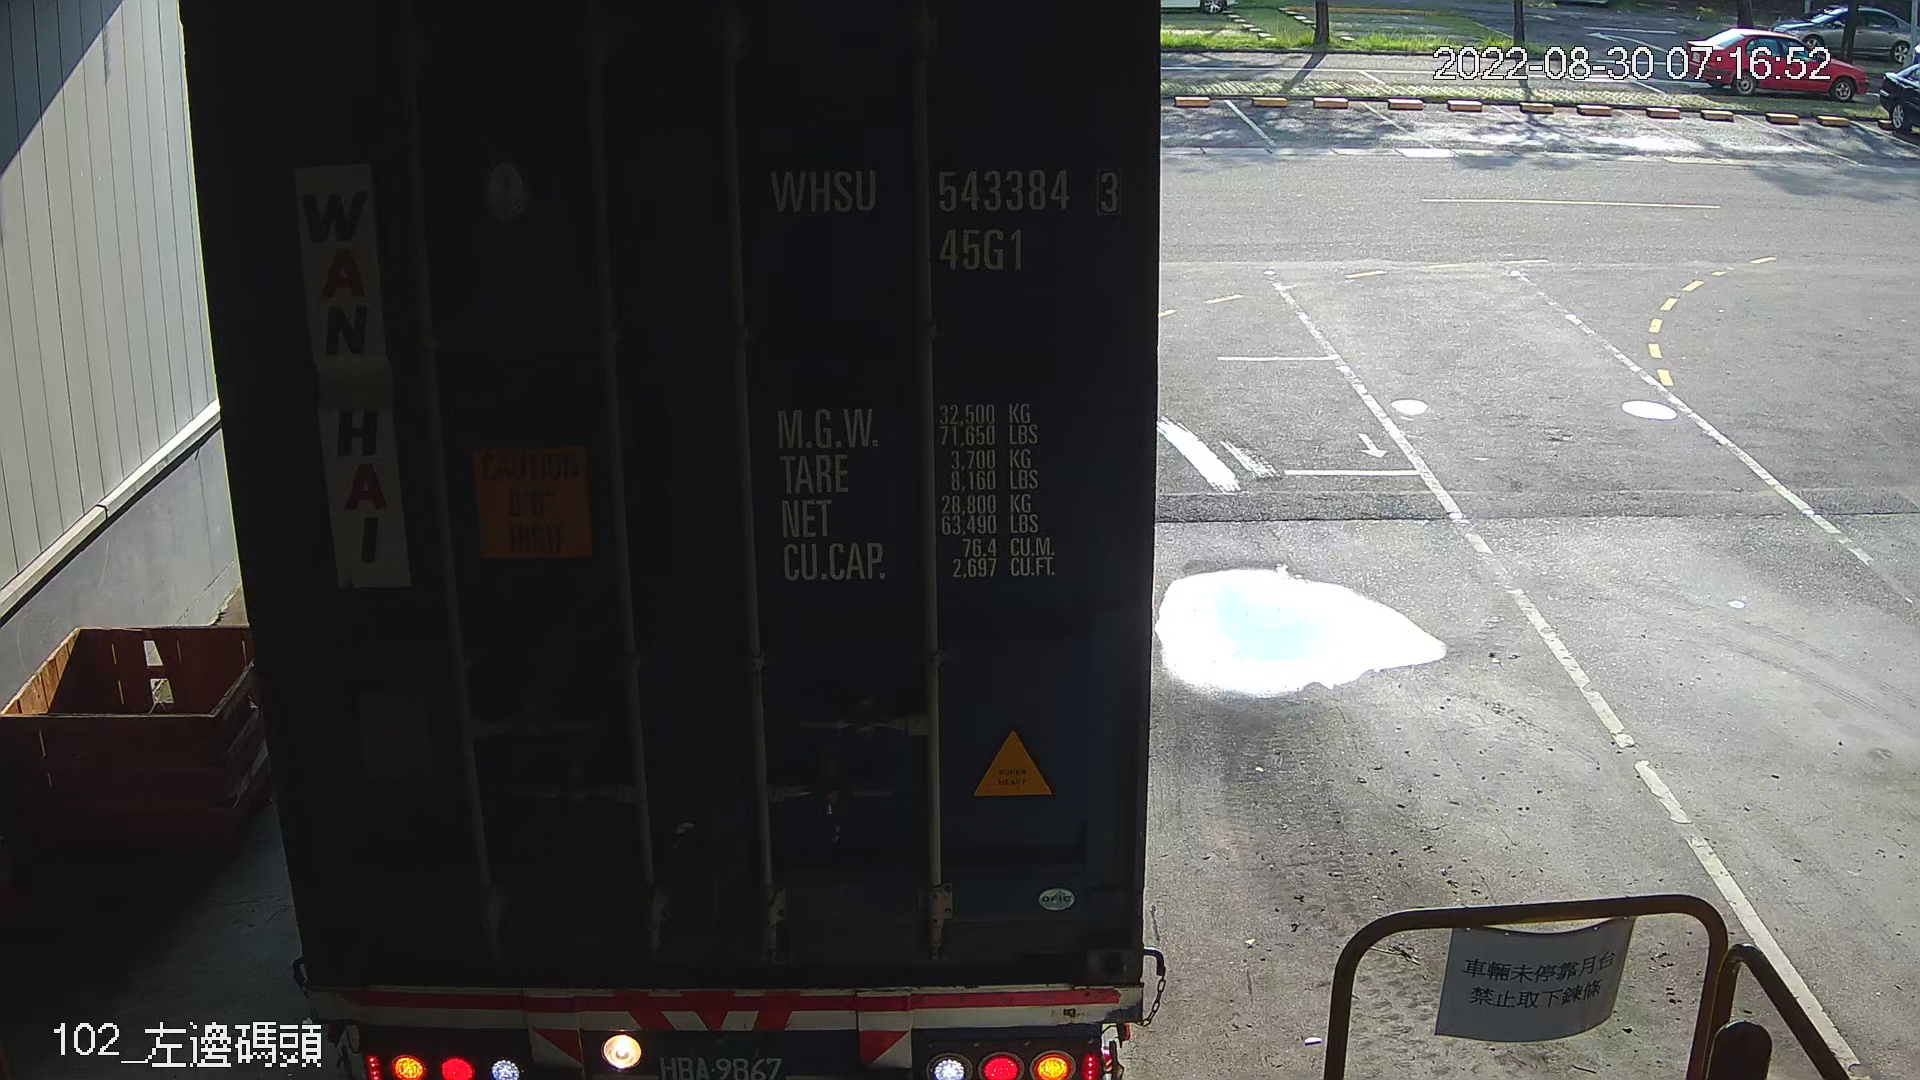container: (756, 156, 1134, 282)
